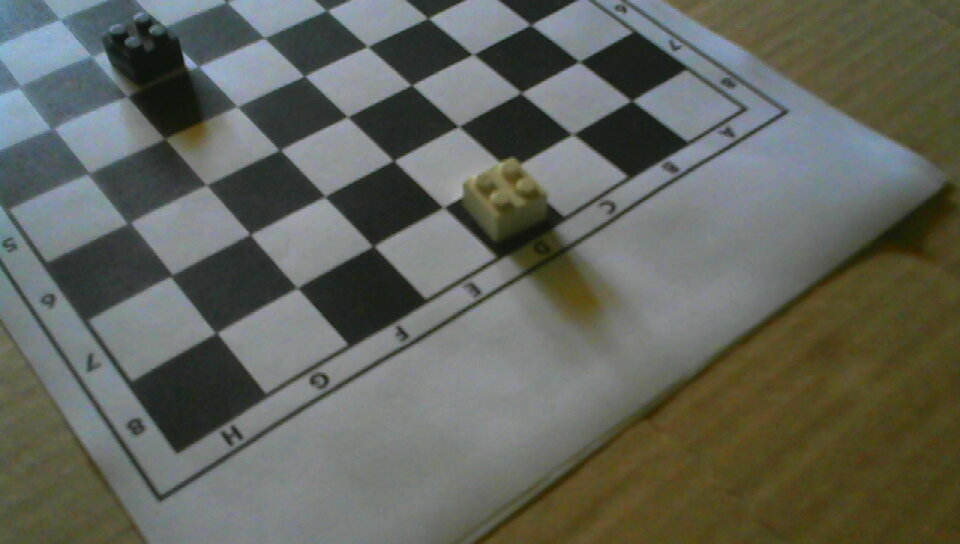bp: (101, 10, 184, 85)
wp: (461, 156, 548, 241)
